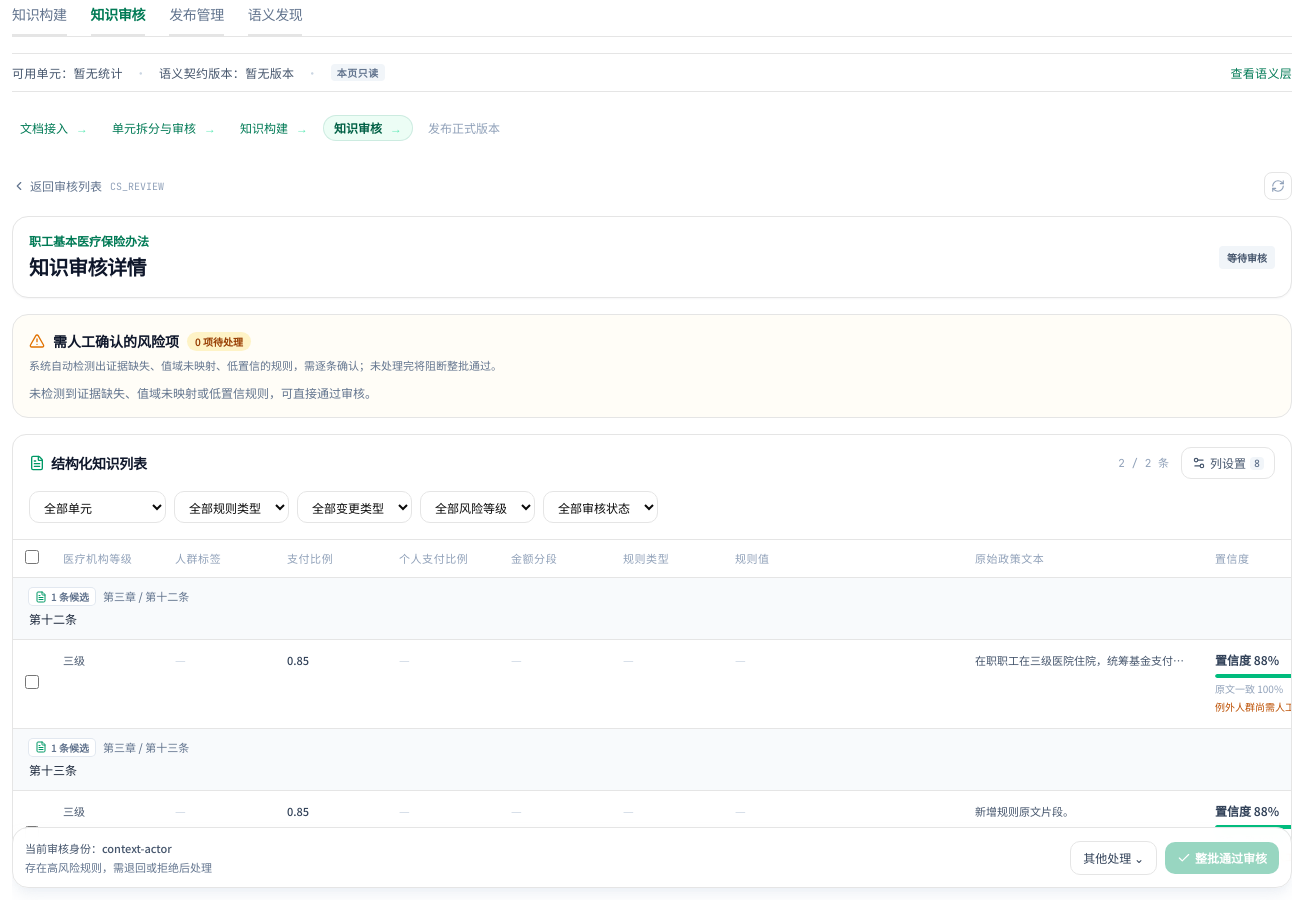
knowledge review detail › filters the review table by change type
Expected: the heading "结构化知识列表" is shown, [29,453,147,473]
Expected: the text "在职职工在三级医院住院，统筹基金支付比例为百分之八十五。" is shown, [975,652,1191,668]
Select "新增" in the dropdown named "按变更类型筛选" at (354, 507), box [297,491,412,523]
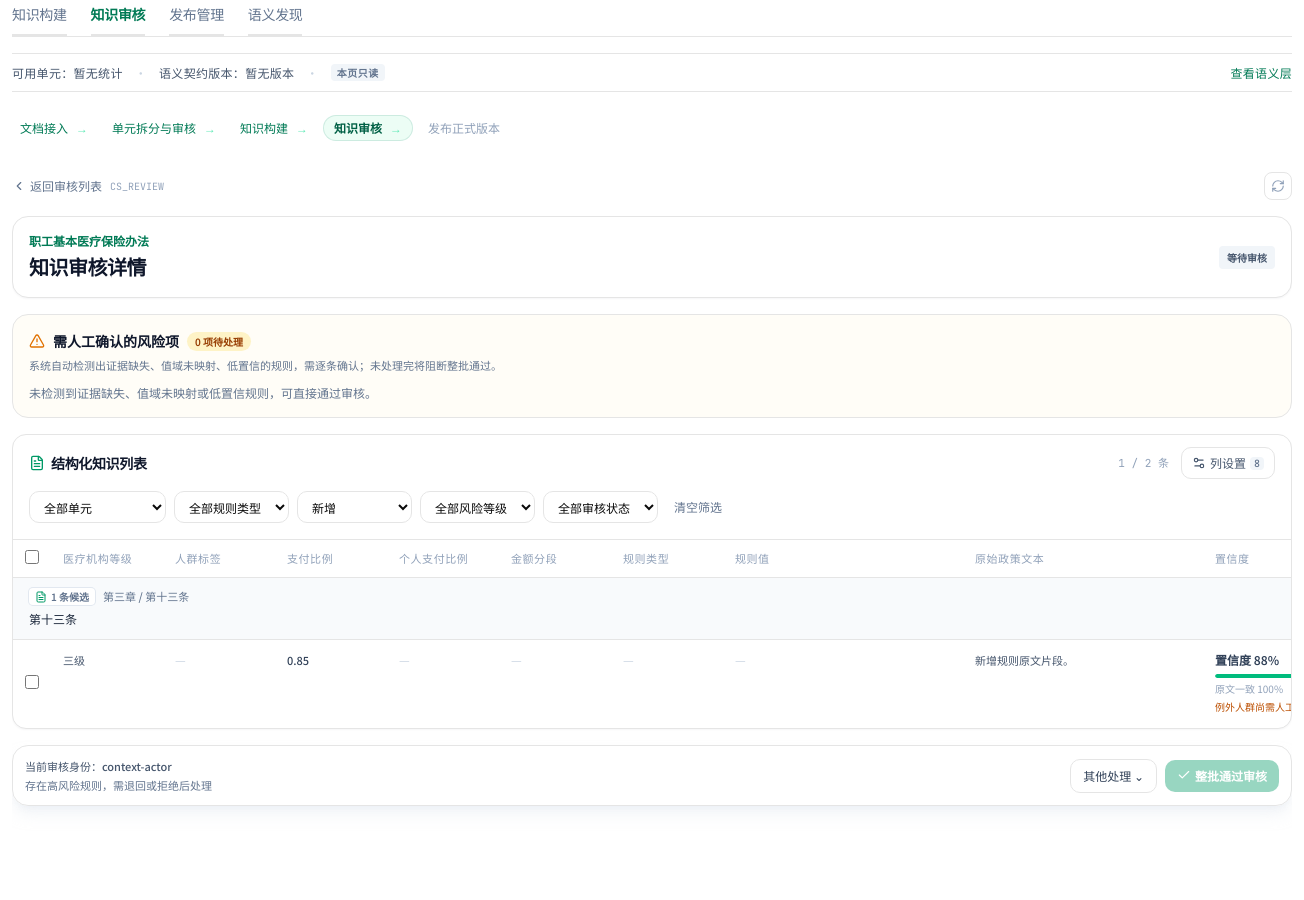
Expected: the text "新增规则原文片段。" is shown, [975,652,1074,668]
Now the text "统筹基金支付比例为百分之八十五" is gone
